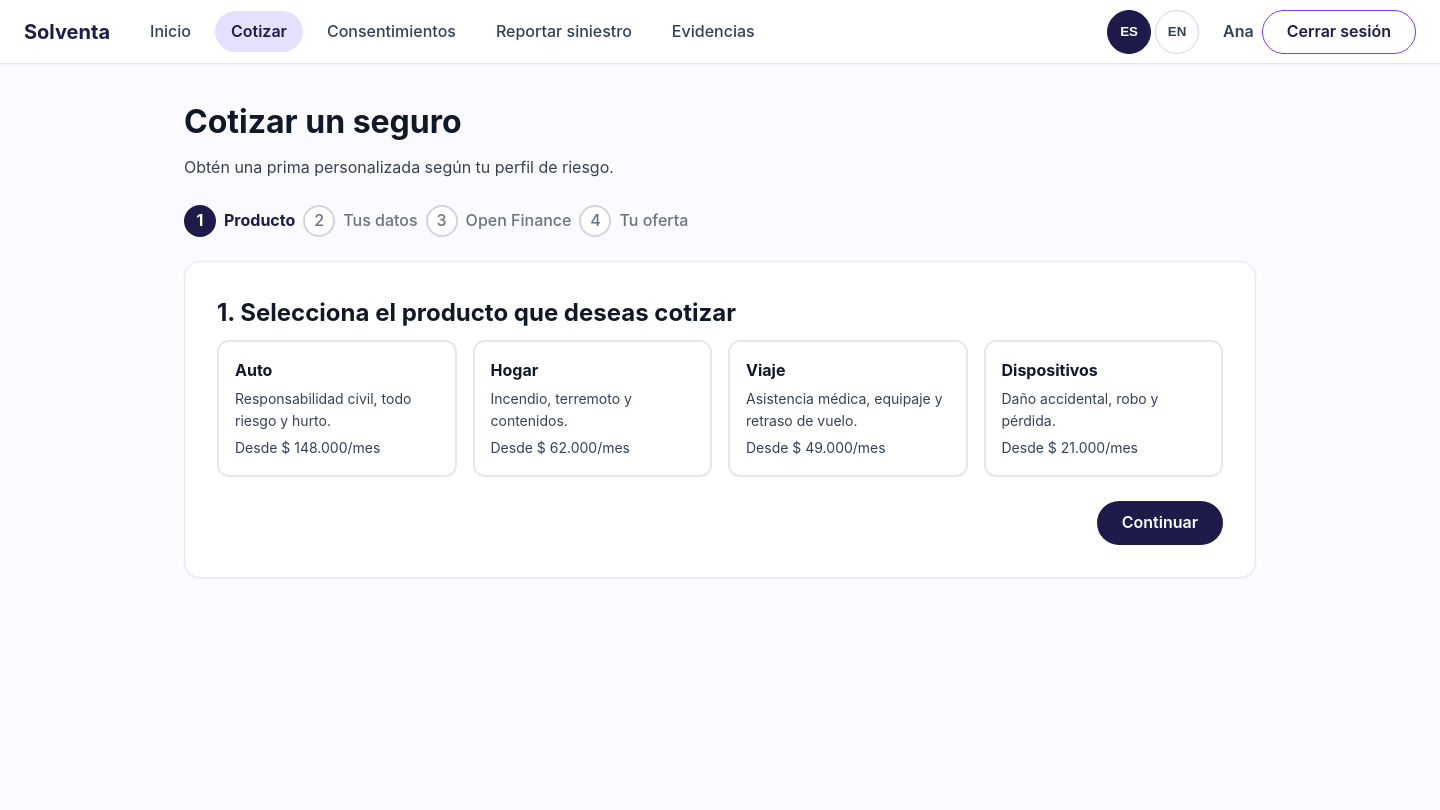
Test case: Asistente de cotización (WEB-F01) › criterio 1: cada paso valida antes de avanzar y se puede volver sin perder datos › al volver conserva el producto y los datos diligenciados
This screenshot has width=1440, height=810.
expect the heading "1. Selecciona el producto que deseas cotizar" is shown: met, box [217, 297, 884, 327]
Click the radio button labelled "Auto" at (337, 409), box [217, 340, 456, 477]
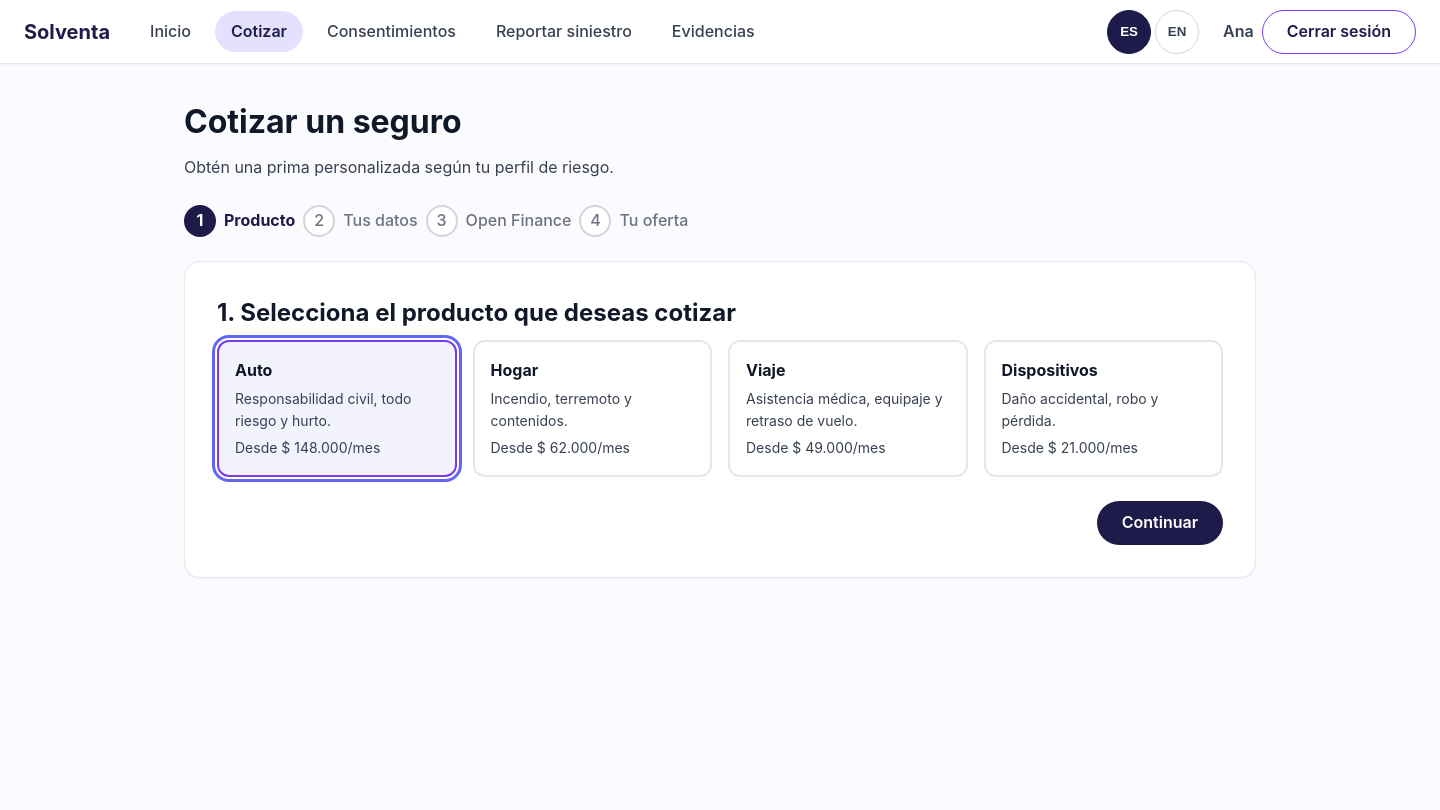
Click the button "Continuar" at (1160, 523), box [1097, 501, 1223, 545]
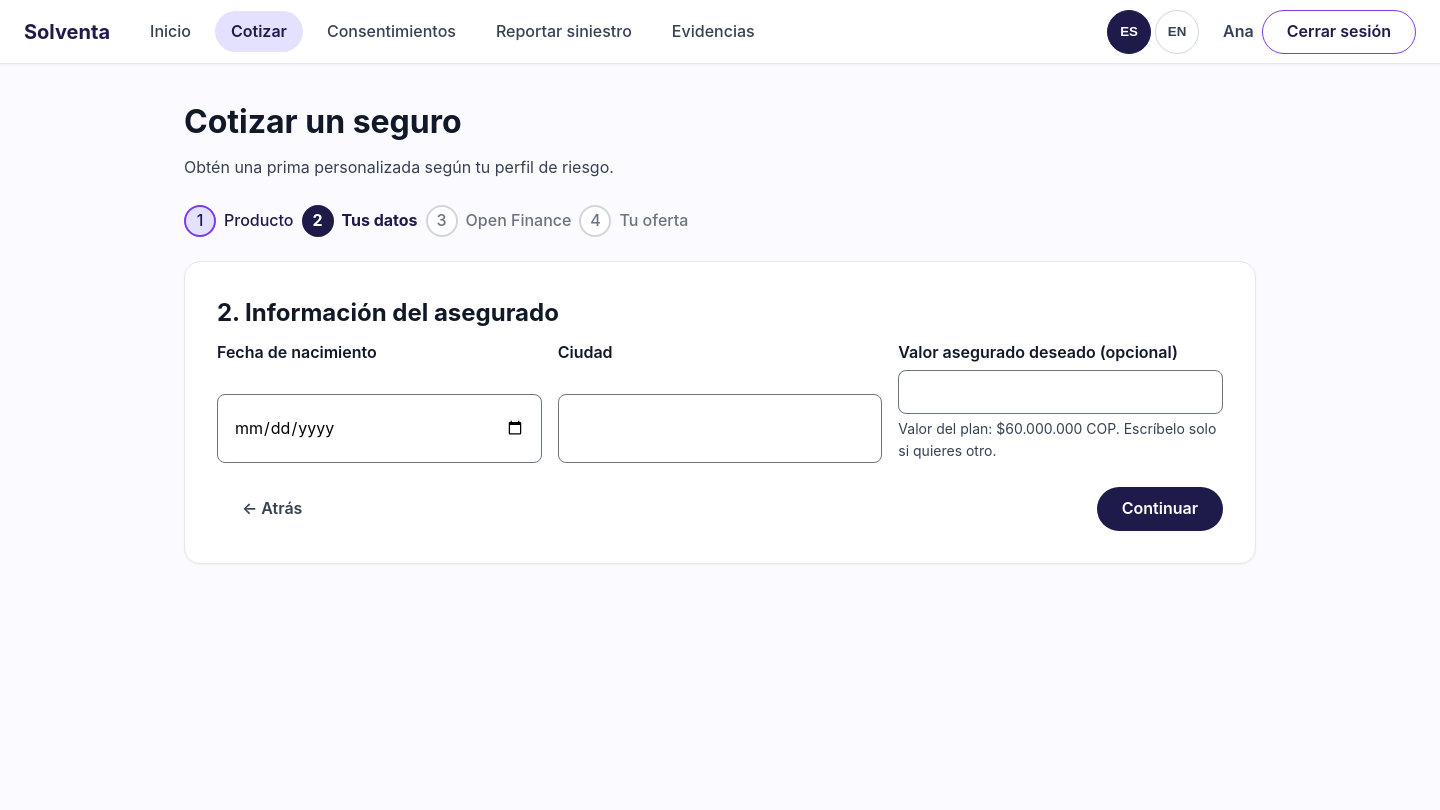
Type "1990-05-14" into the date field labelled "Fecha de nacimiento" at (379, 428), box [217, 394, 542, 463]
Type "Bogotá" into the field labelled "Ciudad" at (720, 428), box [558, 394, 882, 463]
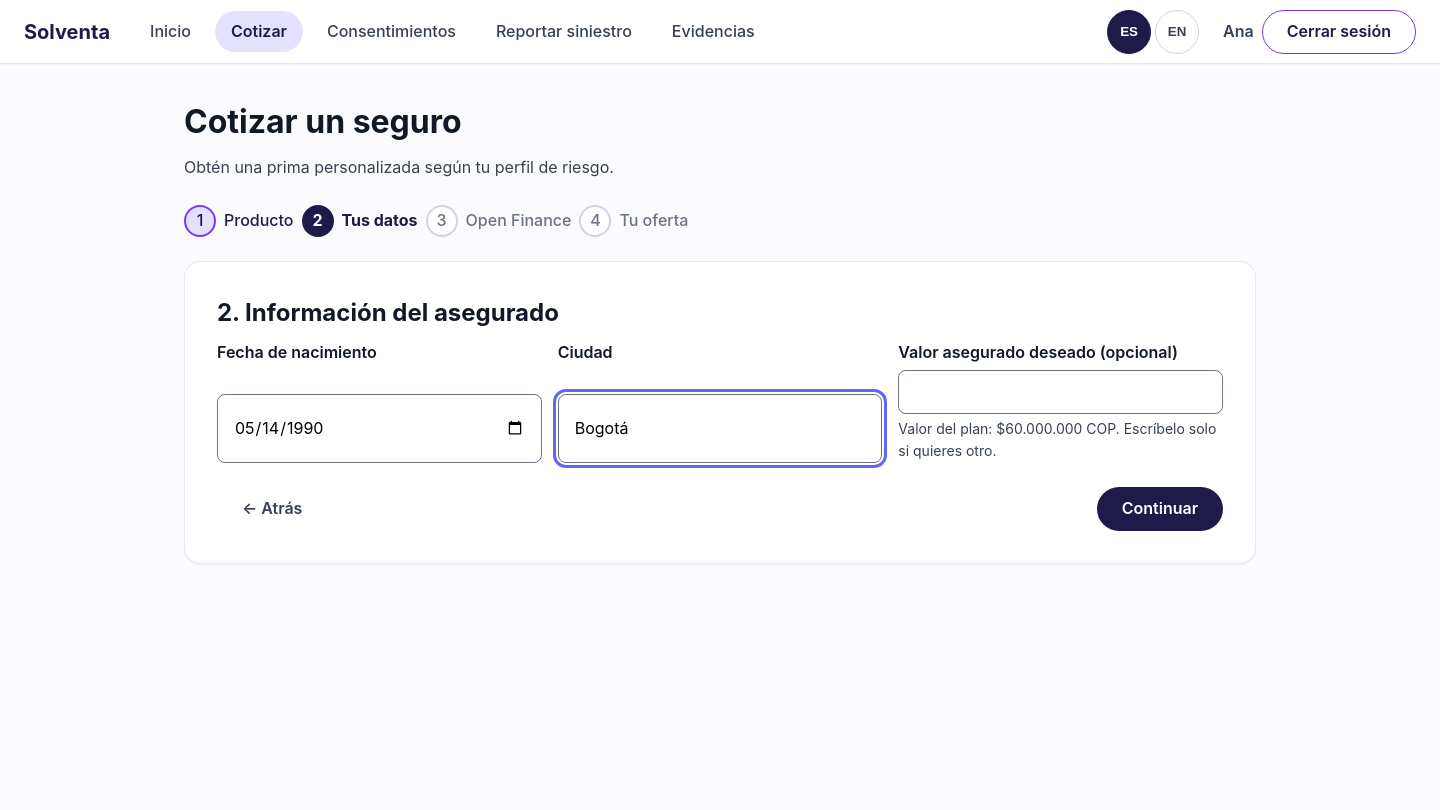
Click the button "Continuar" at (1160, 508), box [1097, 486, 1223, 530]
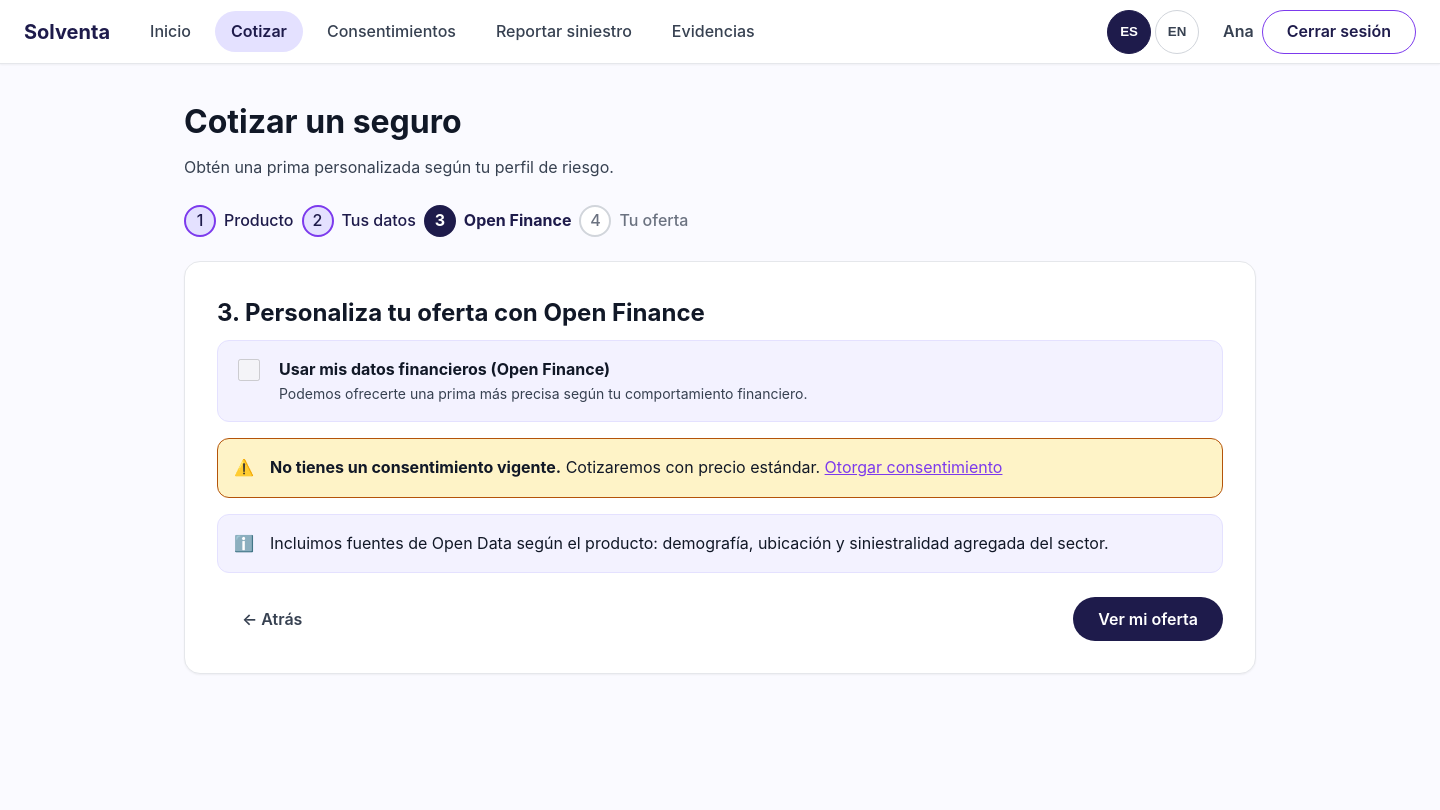
expect the heading "3. Personaliza tu oferta con Open Finance" is shown: met, box [217, 297, 858, 327]
Click the button "← Atrás" at (272, 619), box [217, 597, 327, 641]
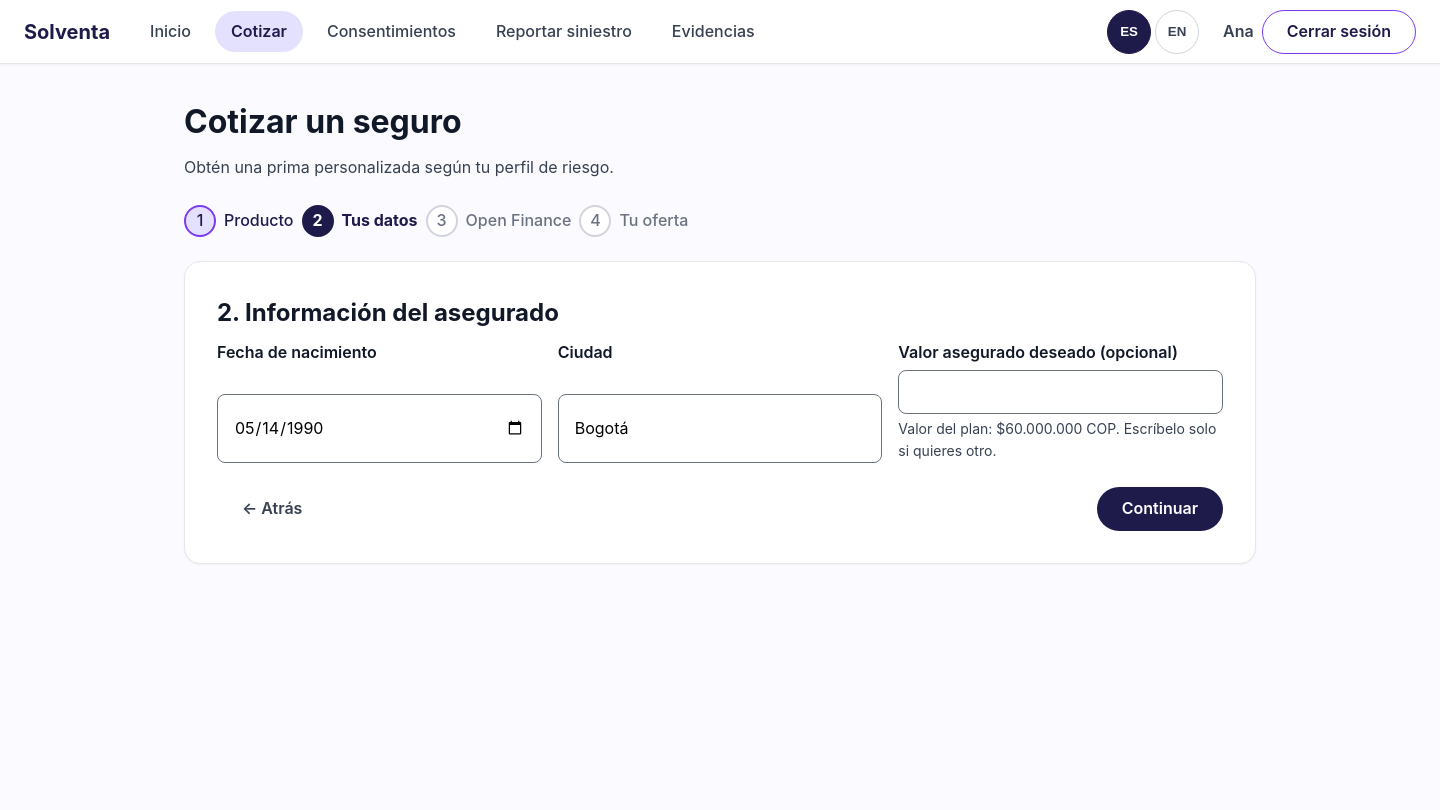
expect the field labelled "Ciudad" holds "Bogotá": met, box [558, 394, 882, 463]
expect the date field labelled "Fecha de nacimiento" holds "1990-05-14": met, box [217, 394, 542, 463]
Click the button "← Atrás" at (272, 508), box [217, 486, 327, 530]
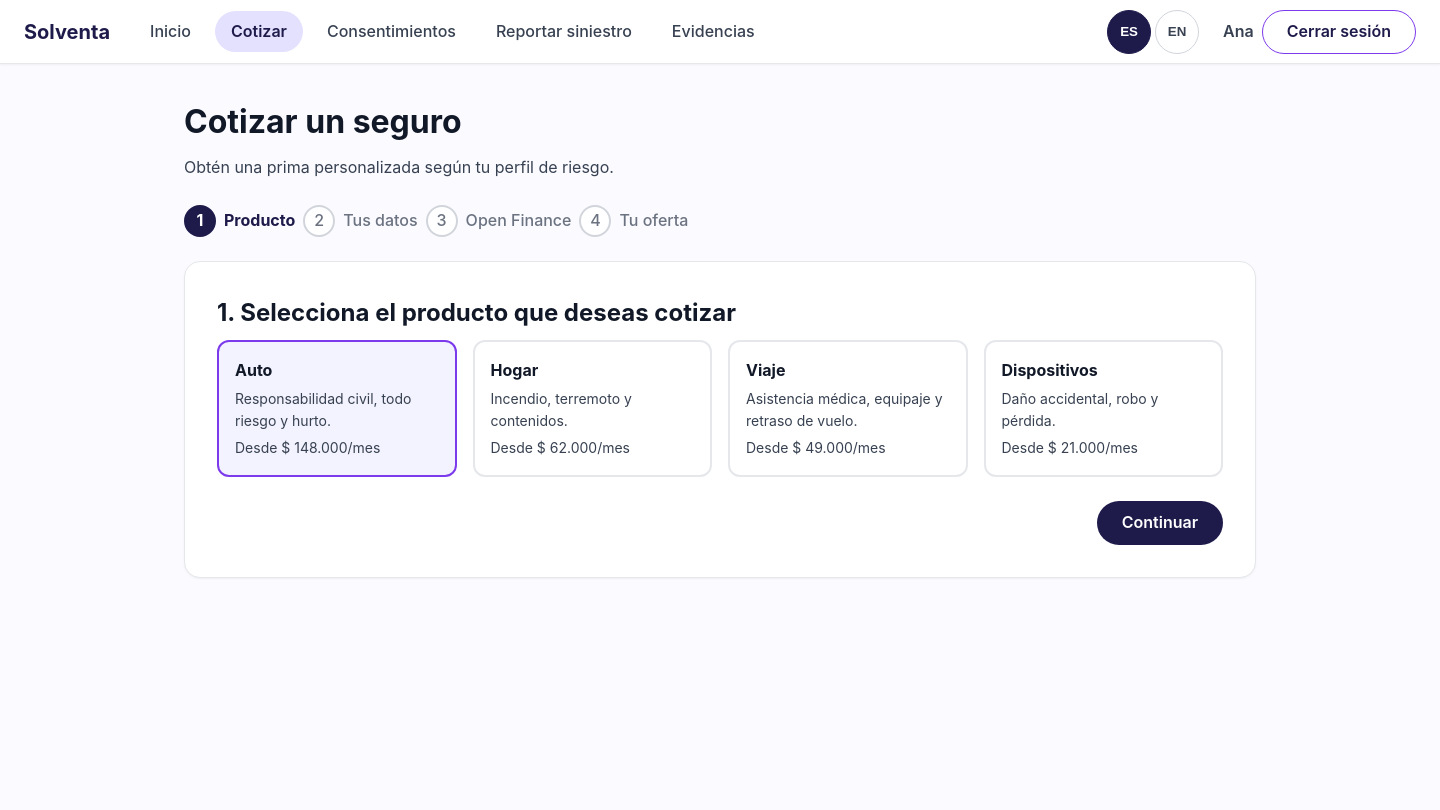
expect the radio button labelled "Auto" is checked: met, box [217, 340, 456, 477]
